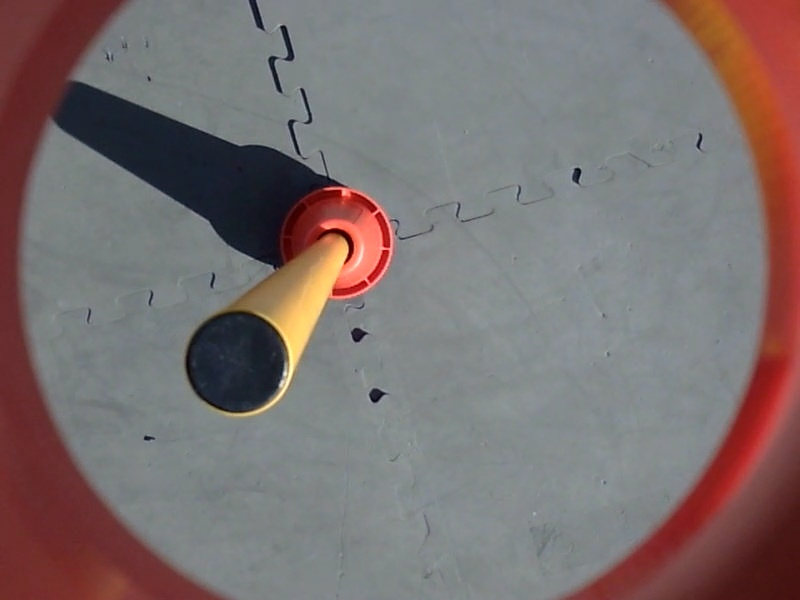tip: (182, 307, 305, 421)
